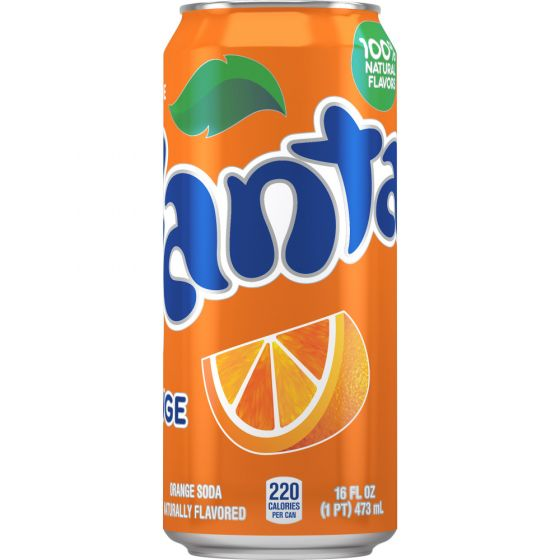fanta_can: (160, 1, 401, 560)
